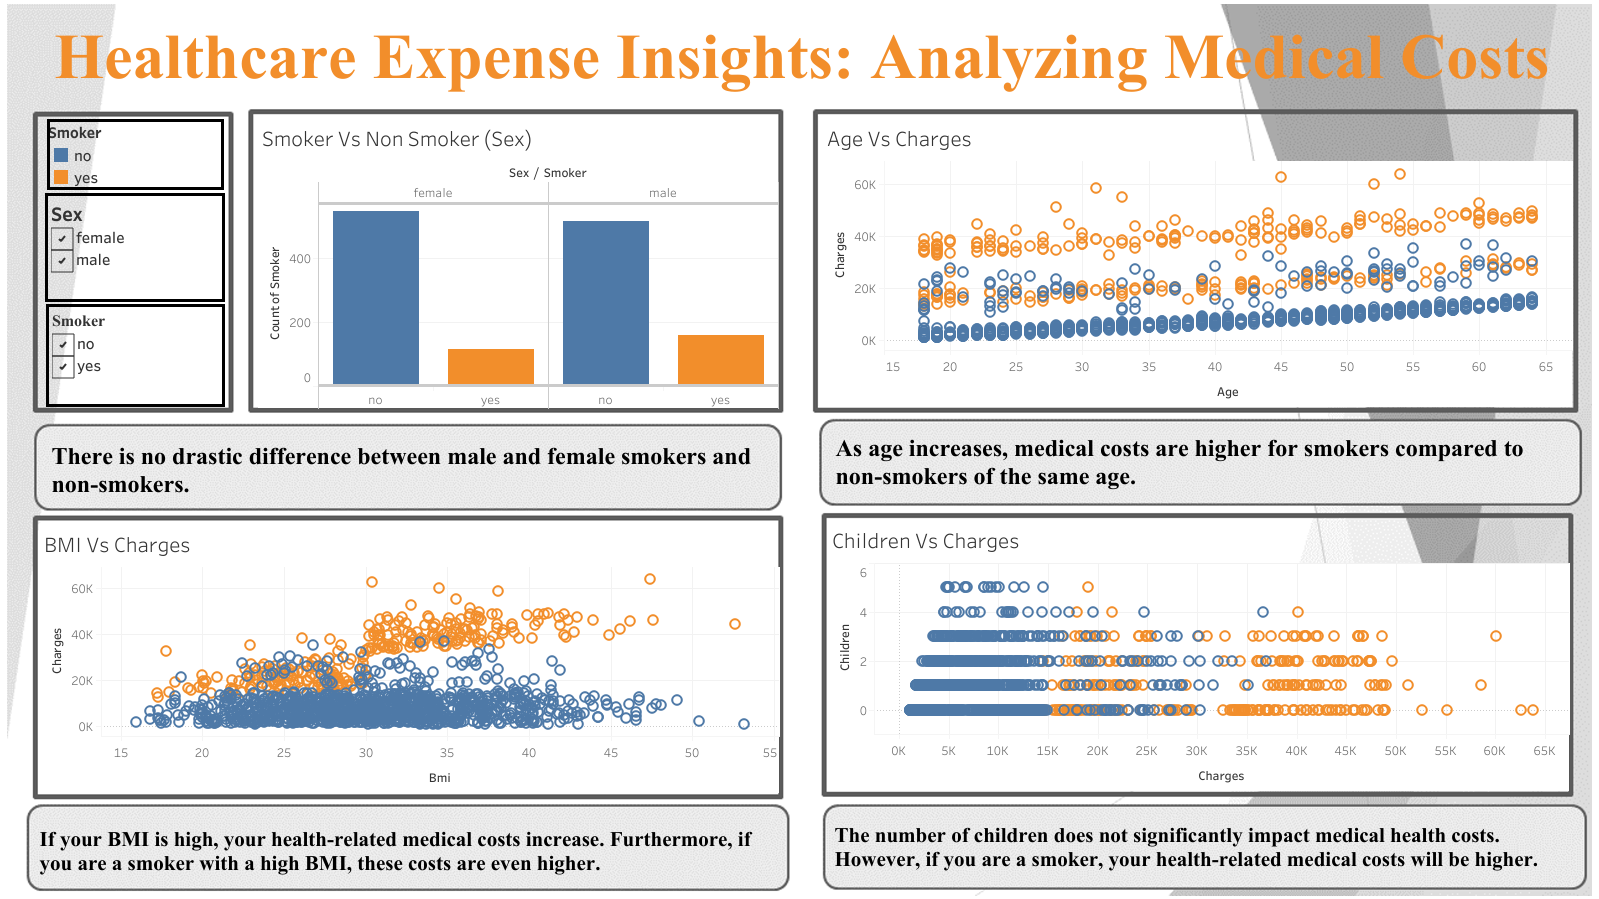

What the dashboard file says about the page in this screenshot:
{"tool":"tableau","page":{"name":"Dashboard 1","canvas":[1600,900],"ordinal":0},"visuals":[{"type":"image","param":"Image/1.png","box":[0,0,1600,900]},{"type":"text","box":[23,12,1558,88]},{"type":"worksheet","title":"Smoker Vs Non Smoker (Sex)","mark":"Automatic","rows":["smoker"],"cols":["sex","smoker"],"box":[257,118,523,292]},{"type":"worksheet","title":"Age Vs Charges","mark":"Automatic","rows":["charges"],"cols":["age"],"box":[823,118,749,289]},{"type":"legend","title":"Smoker Vs Non Smoker (Sex)","param":"[federated.1rkif6n1srpo4j1f8gwgo0vhyzlg].[none:smoker:nk]","box":[47,119,177,71]},{"type":"filter","title":"Smoker Vs Non Smoker (Sex)","param":"[federated.1rkif6n1srpo4j1f8gwgo0vhyzlg].[none:sex:nk]","box":[45,193,180,109]},{"type":"filter","title":"Smoker Vs Non Smoker (Sex)","param":"[federated.1rkif6n1srpo4j1f8gwgo0vhyzlg].[none:smoker:nk]","box":[46,304,179,103]},{"type":"text","box":[833,423,733,78]},{"type":"text","box":[49,429,724,81]},{"type":"worksheet","title":"Children Vs Charges","mark":"Automatic","rows":["children"],"cols":["charges"],"box":[828,520,741,271]},{"type":"worksheet","title":"BMI Vs Charges","mark":"Automatic","rows":["charges"],"cols":["bmi"],"box":[40,524,739,269]},{"type":"text","box":[832,807,746,79]},{"type":"text","box":[37,809,751,84]}]}

Visuals, with their boxes in screenshot pixels (x1, y1, x2, y2), scaled from the page's 1600x900 canvas onto the 1599x899 screenshot:
image: {"x1": 0, "y1": 0, "x2": 1598, "y2": 898}
text: {"x1": 23, "y1": 12, "x2": 1580, "y2": 100}
"Smoker Vs Non Smoker (Sex)" worksheet: {"x1": 257, "y1": 118, "x2": 780, "y2": 410}
"Age Vs Charges" worksheet: {"x1": 822, "y1": 118, "x2": 1571, "y2": 407}
"Smoker Vs Non Smoker (Sex)" legend: {"x1": 47, "y1": 119, "x2": 224, "y2": 190}
"Smoker Vs Non Smoker (Sex)" filter: {"x1": 45, "y1": 193, "x2": 225, "y2": 302}
"Smoker Vs Non Smoker (Sex)" filter: {"x1": 46, "y1": 304, "x2": 225, "y2": 407}
text: {"x1": 832, "y1": 423, "x2": 1565, "y2": 500}
text: {"x1": 49, "y1": 429, "x2": 773, "y2": 509}
"Children Vs Charges" worksheet: {"x1": 827, "y1": 519, "x2": 1568, "y2": 790}
"BMI Vs Charges" worksheet: {"x1": 40, "y1": 523, "x2": 779, "y2": 792}
text: {"x1": 831, "y1": 806, "x2": 1577, "y2": 885}
text: {"x1": 37, "y1": 808, "x2": 788, "y2": 892}
